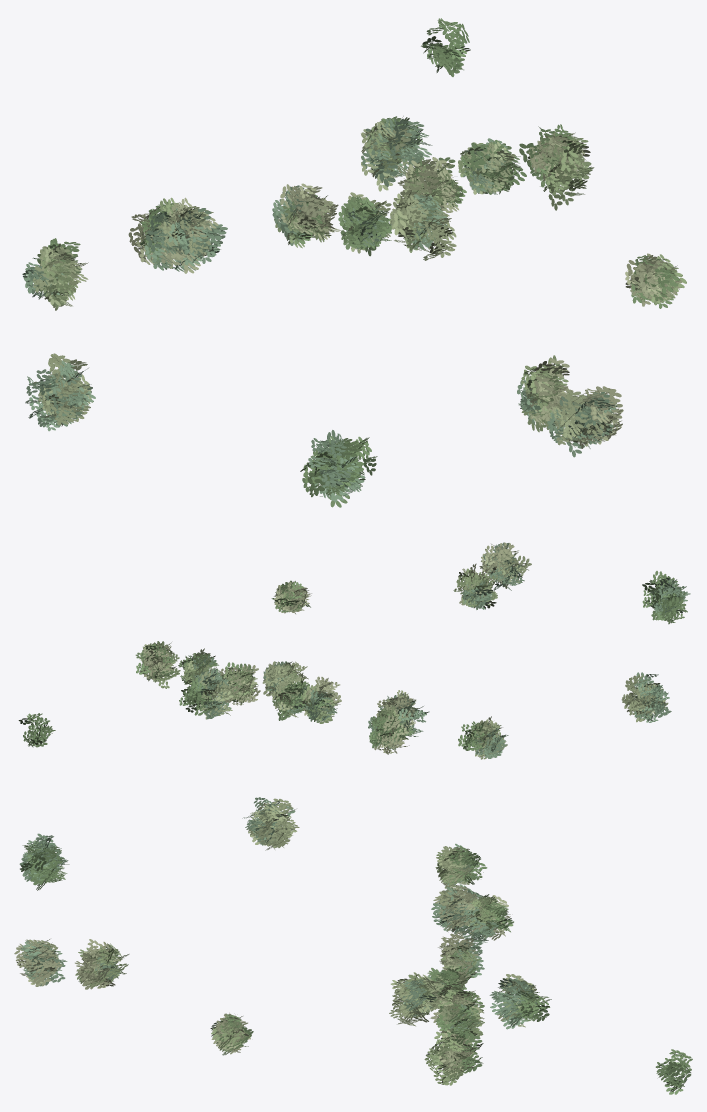
Rendered from campus-tree--1_-1-far.glb.
3 renders of one model, top to bottom at view 1: azimuth 30°, elevation 25°; view 2: azimuth 150°, elevation 25°; view 3: azimuth 270°, elevation 25°, orthographic. The views are drawn at different scales.
Parts seen in each view (by area): view 1: Campus leaf canopy; view 2: Campus leaf canopy; view 3: Campus leaf canopy.
Part boxes in pixels (<box>): Campus leaf canopy: <box>22,18,686,507</box>; Campus leaf canopy: <box>18,542,690,759</box>; Campus leaf canopy: <box>14,797,692,1094</box>.
Size of the model in its own units: 64.27 by 8.5 by 70.05.
Materials: 1 (1 with a texture image).
